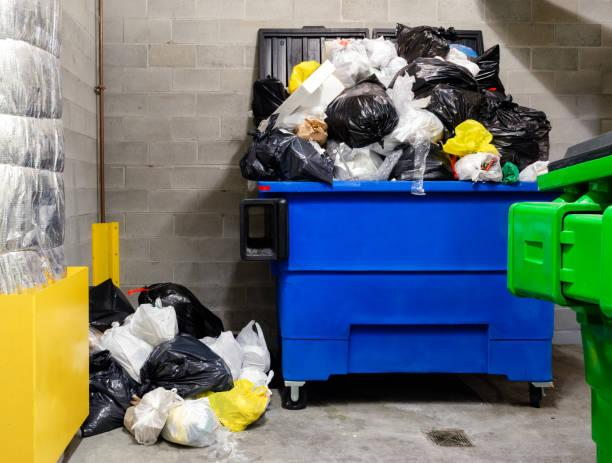trash: (245, 18, 563, 194), (72, 271, 277, 448)
trash_can_overflow: (173, 14, 568, 436)
